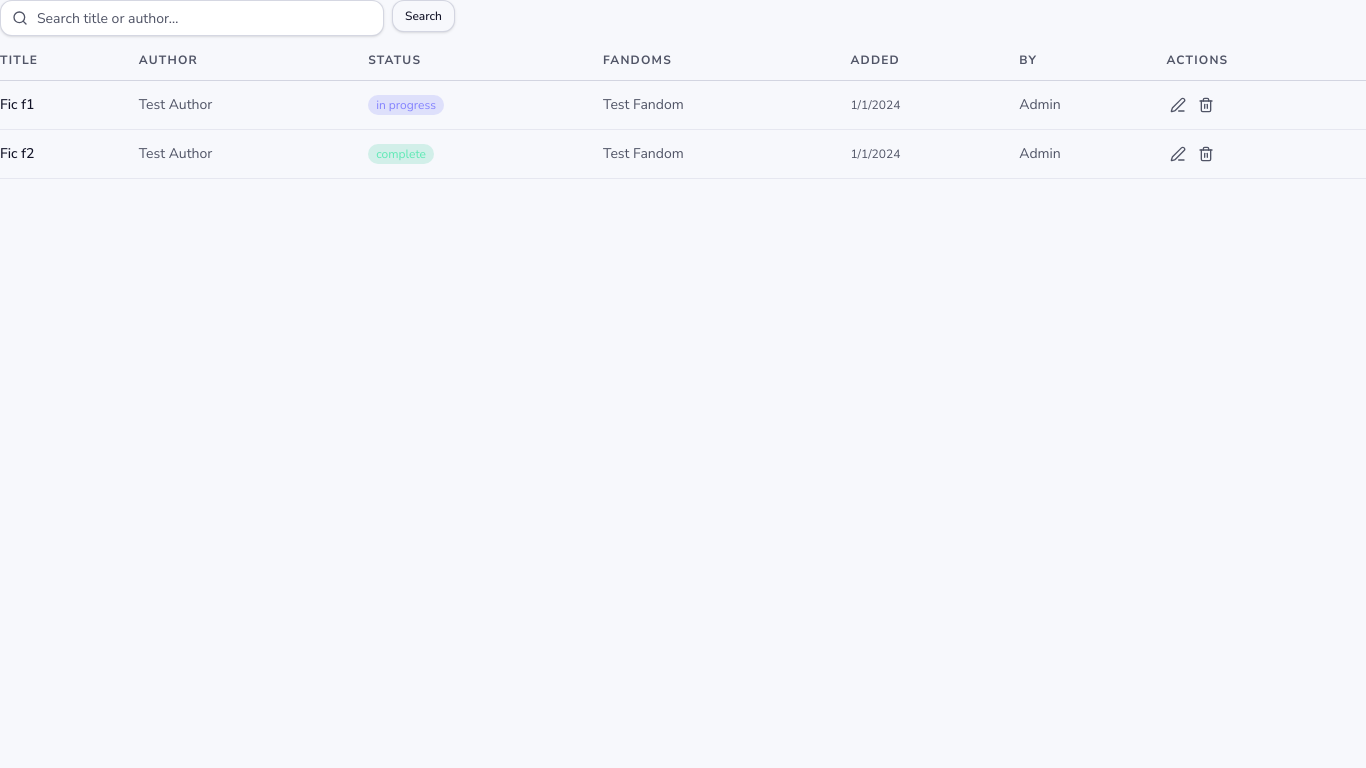
Test: FicsSection › opens delete confirm modal
Expected: the link "Fic f1" is shown, x1=0 y1=95 x2=34 y2=114
Click the button named "Delete fic" in the row of "Fic f1" at [1206, 105], box x1=1194 y1=93 x2=1218 y2=117
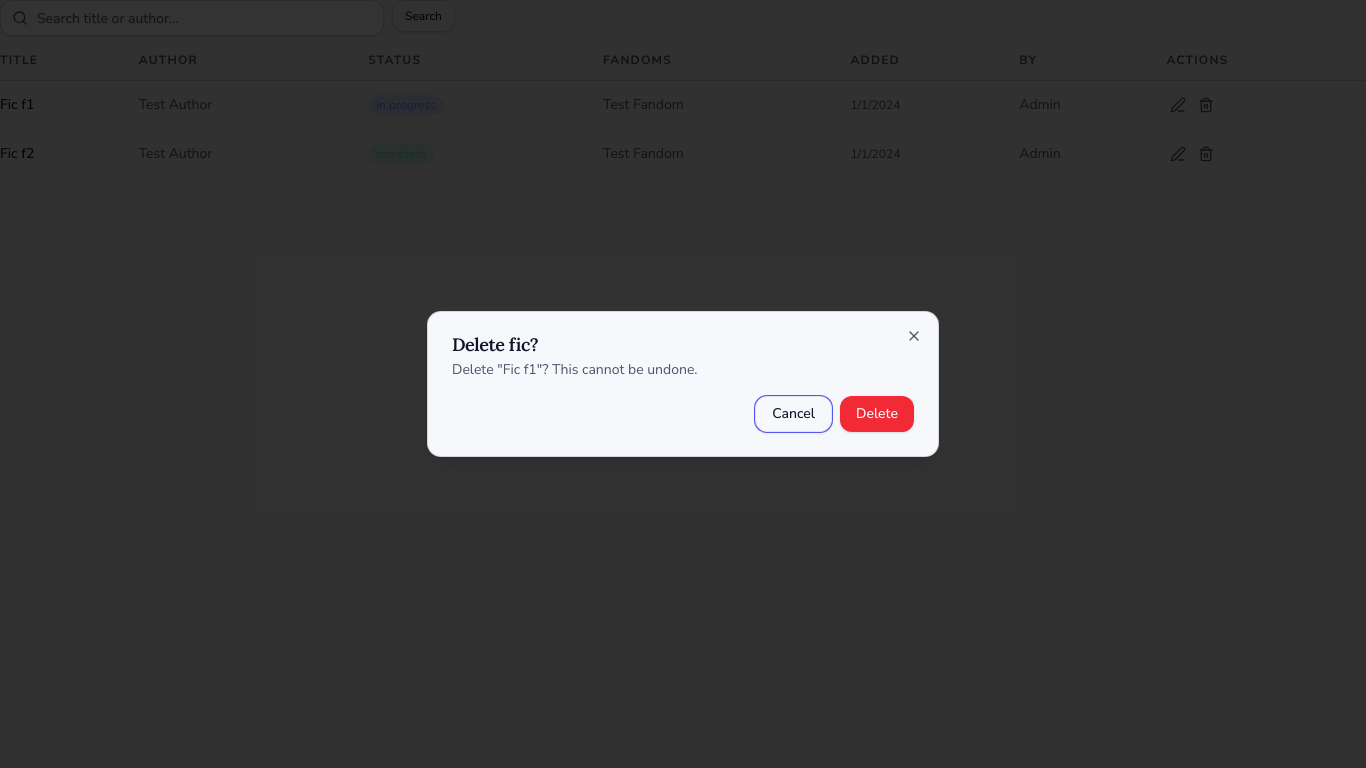
Result: the heading "Delete fic?" is shown at x1=452 y1=333 x2=538 y2=356
Result: the text "Delete \"Fic f1\"? This cannot be undone." is shown at x1=452 y1=360 x2=698 y2=379
